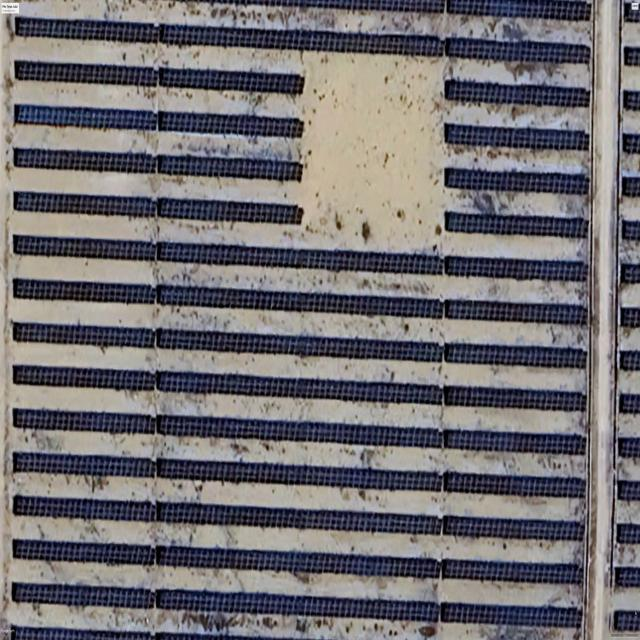Solar Panels: (12, 322, 587, 369), (13, 409, 586, 456), (15, 236, 588, 282), (12, 452, 585, 498), (14, 496, 585, 542), (12, 539, 583, 585), (13, 365, 586, 410), (11, 583, 582, 628), (13, 279, 404, 316), (13, 191, 304, 225), (14, 104, 304, 138), (15, 61, 304, 95), (15, 149, 303, 182), (160, 25, 444, 57), (405, 298, 587, 325), (444, 79, 589, 108), (444, 123, 589, 151), (445, 168, 589, 195), (445, 211, 587, 238), (445, 38, 590, 64), (15, 17, 159, 43), (446, 0, 591, 21), (215, 0, 445, 13), (614, 610, 640, 632), (615, 567, 640, 588), (617, 523, 640, 544), (618, 480, 640, 501), (618, 437, 640, 458), (619, 393, 640, 414), (620, 350, 640, 371), (621, 307, 640, 328), (621, 263, 640, 284), (622, 219, 640, 241), (622, 133, 640, 154), (622, 176, 640, 197), (623, 2, 640, 24), (623, 90, 640, 111), (624, 46, 640, 66)
